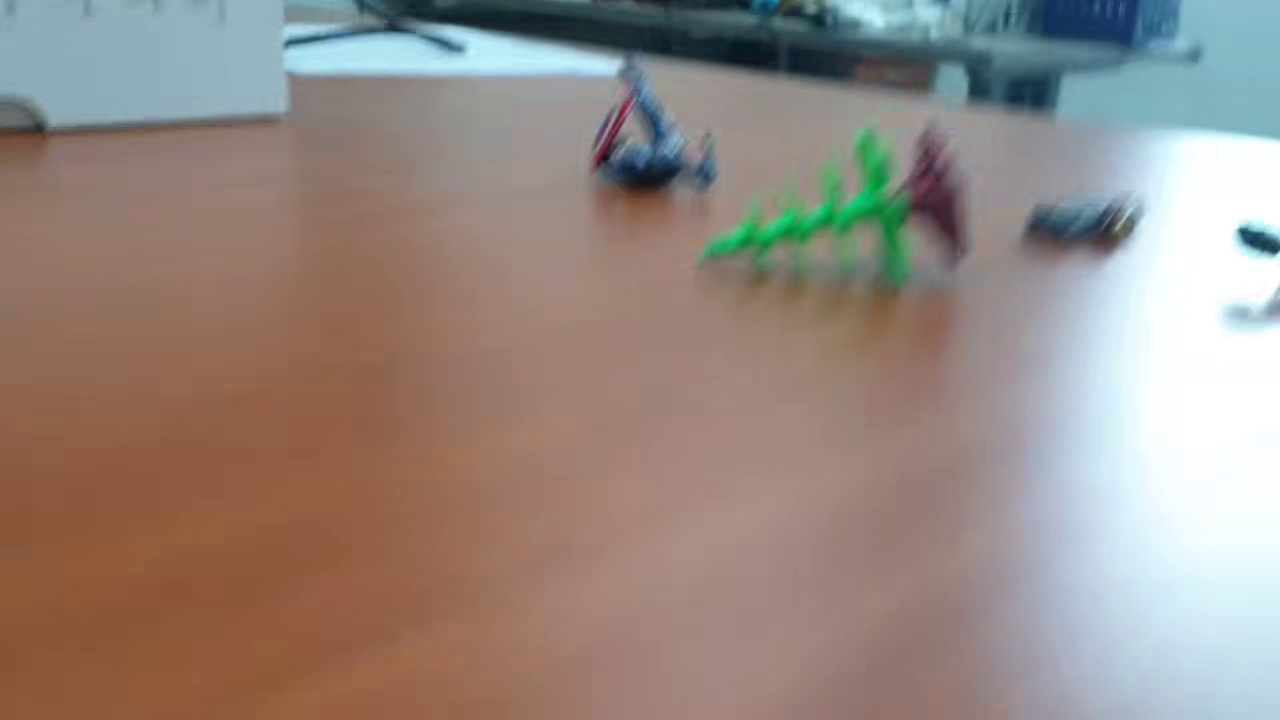people: (586, 49, 722, 199), (1025, 196, 1143, 252)
tree: (687, 106, 967, 299)
